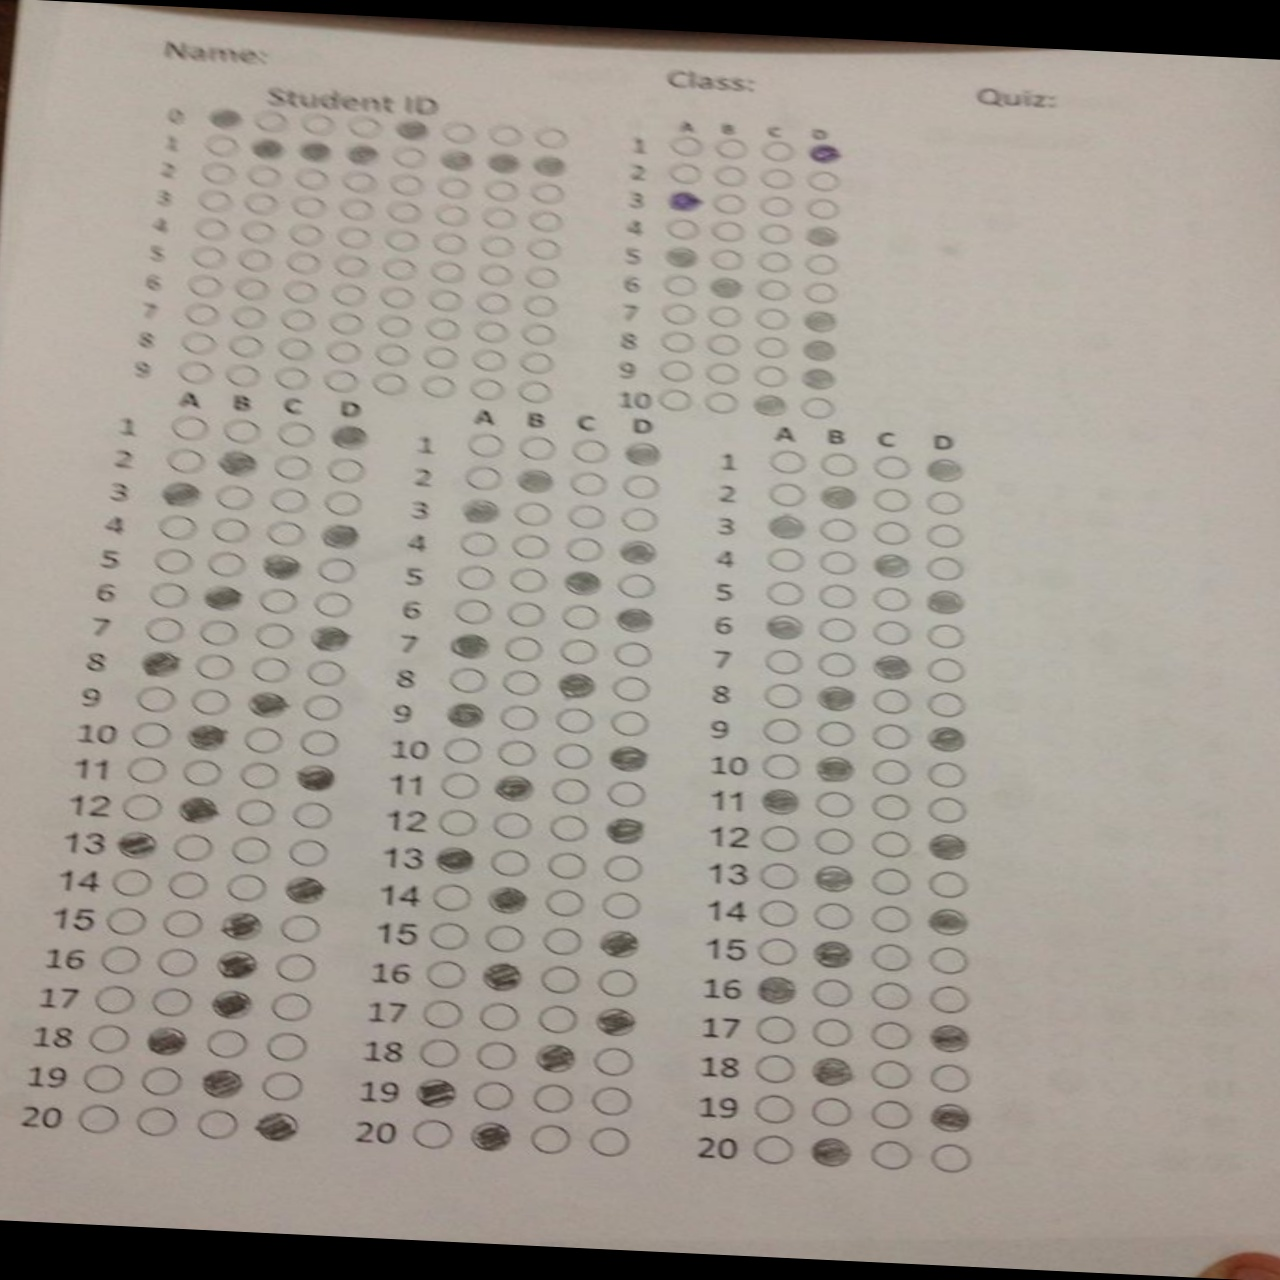not-c: (924, 1139, 978, 1175), (474, 1039, 520, 1074), (80, 1061, 128, 1095), (469, 1080, 518, 1111), (587, 1126, 633, 1160), (870, 1138, 915, 1172), (91, 983, 136, 1017), (136, 1105, 181, 1139), (870, 903, 914, 937), (151, 545, 198, 577), (482, 924, 529, 955), (924, 869, 971, 900), (867, 1099, 914, 1131), (154, 512, 202, 543), (749, 1055, 797, 1085), (324, 454, 368, 486), (212, 481, 257, 513), (749, 1090, 794, 1123), (273, 418, 319, 450), (268, 451, 314, 483), (268, 990, 314, 1022), (261, 1070, 307, 1102), (76, 1103, 122, 1135), (870, 980, 915, 1012), (156, 945, 198, 979), (205, 1026, 247, 1060), (161, 445, 207, 476), (302, 658, 349, 688), (753, 897, 799, 927), (196, 1108, 239, 1141), (416, 1036, 459, 1069), (314, 554, 359, 586), (256, 585, 300, 617), (118, 791, 163, 823), (755, 1132, 795, 1167), (557, 604, 602, 634), (544, 850, 590, 880), (928, 982, 971, 1015), (871, 1057, 913, 1090), (320, 488, 367, 517), (501, 633, 547, 662), (922, 554, 969, 584), (869, 869, 915, 898), (87, 1023, 130, 1055), (139, 1065, 183, 1097), (601, 891, 645, 922), (925, 689, 968, 721), (166, 411, 211, 442), (248, 654, 293, 685), (477, 1001, 522, 1032), (591, 1046, 635, 1076), (922, 489, 967, 519), (869, 617, 913, 647), (234, 796, 275, 829), (930, 1064, 971, 1097), (531, 1084, 577, 1114), (410, 1121, 456, 1150), (922, 621, 968, 651), (298, 728, 340, 760), (274, 952, 316, 983), (597, 966, 639, 998), (591, 1088, 633, 1119), (755, 934, 797, 966), (755, 1014, 797, 1046), (207, 515, 251, 545), (286, 837, 329, 867), (104, 906, 148, 937), (612, 674, 655, 704), (527, 1123, 571, 1153), (219, 416, 264, 445), (288, 799, 333, 829), (159, 908, 204, 938), (812, 721, 860, 748), (312, 590, 354, 620), (241, 726, 284, 756), (229, 835, 271, 865), (509, 565, 551, 595), (429, 920, 471, 951), (539, 966, 581, 996), (815, 615, 860, 644), (551, 704, 594, 734), (869, 831, 912, 860), (927, 946, 971, 975), (813, 978, 857, 1007), (418, 343, 465, 370), (812, 791, 859, 818), (101, 944, 141, 975), (549, 812, 588, 844), (423, 287, 468, 315), (760, 716, 804, 744), (870, 794, 914, 822), (619, 570, 660, 600), (425, 959, 467, 989), (384, 198, 427, 227), (193, 651, 236, 680), (190, 688, 232, 717), (128, 720, 170, 749), (165, 870, 207, 899), (278, 913, 320, 942), (871, 1022, 913, 1051), (297, 110, 342, 137), (924, 656, 969, 683), (821, 448, 858, 481), (928, 794, 967, 825), (758, 823, 797, 855), (810, 1096, 849, 1128), (267, 486, 311, 515), (253, 620, 297, 648), (602, 855, 646, 883), (869, 584, 912, 612), (150, 579, 190, 610), (151, 988, 191, 1019), (544, 926, 584, 956), (760, 750, 799, 781), (813, 828, 853, 858), (223, 360, 264, 389), (474, 260, 515, 290), (144, 614, 185, 644), (181, 757, 222, 787), (238, 762, 279, 791), (225, 873, 266, 903), (870, 942, 911, 972), (290, 165, 334, 192), (436, 772, 481, 799), (274, 334, 316, 362), (206, 549, 248, 577), (127, 755, 169, 783), (506, 601, 549, 629), (551, 741, 593, 769), (490, 851, 532, 879), (762, 681, 804, 709), (448, 666, 486, 696), (767, 579, 805, 610), (761, 651, 806, 676), (328, 281, 372, 308), (368, 342, 411, 369), (493, 740, 537, 767), (267, 1032, 307, 1061), (551, 777, 591, 806), (423, 1001, 463, 1030), (540, 1006, 580, 1035), (329, 309, 370, 338), (113, 869, 154, 897), (452, 598, 493, 626), (501, 669, 542, 697), (416, 373, 461, 399), (181, 331, 223, 358), (427, 259, 469, 286), (265, 519, 307, 546), (512, 501, 554, 527), (872, 687, 914, 714), (924, 760, 966, 787), (230, 302, 270, 331), (285, 220, 325, 248), (135, 686, 175, 714), (302, 693, 342, 721), (171, 833, 211, 862), (612, 641, 652, 669), (436, 808, 476, 836), (926, 522, 966, 550), (813, 901, 853, 930), (811, 1020, 851, 1048), (526, 207, 570, 233), (509, 533, 552, 559), (270, 365, 311, 392), (433, 202, 474, 229), (622, 474, 663, 501), (818, 583, 859, 610), (870, 760, 911, 787), (190, 241, 227, 271), (324, 367, 361, 396), (422, 316, 467, 341), (282, 277, 321, 305), (322, 338, 365, 363), (469, 346, 508, 374), (520, 293, 563, 319), (464, 433, 506, 458), (570, 436, 608, 464), (497, 706, 539, 731), (433, 884, 471, 912), (817, 652, 859, 678), (871, 724, 910, 753), (756, 863, 798, 888), (251, 108, 291, 135), (376, 314, 416, 341), (518, 349, 558, 376), (455, 564, 495, 591), (546, 888, 586, 915), (767, 482, 806, 509), (459, 527, 495, 558), (492, 811, 529, 840), (380, 257, 421, 282), (468, 377, 509, 403), (523, 264, 564, 290), (342, 168, 380, 196), (821, 517, 858, 545), (433, 173, 471, 200), (237, 245, 275, 272), (515, 379, 553, 406), (874, 520, 913, 547), (441, 120, 481, 145), (486, 122, 526, 148), (532, 124, 572, 150), (232, 275, 272, 301), (282, 250, 322, 275), (369, 372, 409, 397), (520, 321, 560, 347), (198, 619, 238, 645), (570, 471, 610, 497), (610, 712, 649, 737), (482, 205, 518, 233), (465, 464, 502, 492), (873, 486, 910, 515), (377, 285, 415, 312), (241, 190, 282, 215), (663, 134, 704, 158), (765, 549, 806, 573), (346, 114, 384, 139), (484, 178, 523, 204), (530, 181, 568, 206), (335, 225, 374, 251), (443, 738, 482, 764), (568, 503, 604, 531), (241, 163, 281, 188), (430, 231, 470, 256), (527, 236, 567, 260), (704, 332, 744, 356), (624, 508, 663, 532), (383, 229, 420, 256), (177, 359, 215, 384), (474, 290, 511, 315), (665, 161, 702, 186), (519, 434, 557, 459), (182, 302, 220, 327), (472, 319, 511, 343), (663, 217, 702, 241), (704, 392, 743, 416), (796, 396, 835, 421), (199, 159, 236, 185), (197, 189, 233, 215), (240, 218, 277, 244), (479, 234, 516, 260), (708, 246, 744, 272), (658, 387, 694, 413), (607, 782, 644, 808), (771, 448, 808, 474), (288, 195, 328, 218), (760, 139, 799, 163), (563, 538, 602, 561), (874, 457, 914, 481), (334, 256, 372, 280), (756, 250, 794, 274), (703, 361, 741, 386), (560, 640, 598, 665), (203, 134, 241, 157), (390, 172, 425, 198), (227, 335, 266, 359), (819, 550, 855, 576), (712, 163, 748, 188), (805, 251, 842, 275), (188, 275, 225, 299), (279, 308, 316, 332), (659, 331, 696, 354), (195, 216, 230, 240), (755, 279, 794, 301), (756, 307, 792, 331), (761, 195, 794, 220), (392, 145, 425, 170), (341, 198, 375, 223), (660, 359, 694, 383), (758, 223, 796, 245), (801, 281, 838, 304), (805, 169, 840, 192), (761, 166, 797, 189), (753, 365, 789, 387), (663, 302, 697, 326), (754, 336, 789, 359), (709, 304, 741, 328), (805, 197, 838, 220), (715, 137, 749, 159), (712, 220, 747, 241), (663, 275, 697, 297), (714, 193, 747, 215)
taken-c: (918, 1020, 976, 1061), (197, 985, 259, 1020), (597, 812, 652, 851), (304, 621, 356, 659), (922, 833, 975, 871), (111, 826, 161, 866), (279, 873, 333, 910), (806, 1131, 859, 1167), (130, 644, 186, 678), (248, 1107, 299, 1144), (809, 1055, 862, 1090), (198, 1065, 245, 1104), (617, 533, 663, 572), (409, 1077, 463, 1110), (486, 771, 538, 804), (601, 745, 651, 779), (558, 670, 602, 708), (259, 549, 306, 584), (469, 1119, 516, 1155), (920, 1101, 974, 1131), (751, 974, 799, 1008), (599, 926, 641, 965), (204, 583, 250, 618), (218, 908, 264, 944), (593, 1002, 639, 1037), (209, 946, 256, 980), (445, 629, 493, 662), (622, 438, 670, 471), (926, 723, 972, 757), (563, 568, 610, 601), (477, 961, 527, 992), (761, 612, 809, 644), (529, 1040, 573, 1074), (614, 604, 659, 638), (809, 937, 853, 971), (817, 681, 862, 715), (870, 550, 914, 584), (177, 794, 220, 828), (813, 481, 857, 515), (290, 763, 338, 794), (928, 907, 974, 939), (925, 590, 972, 620), (486, 883, 530, 915), (433, 845, 477, 877), (918, 456, 966, 485), (445, 699, 491, 729), (764, 509, 810, 539), (813, 866, 860, 896), (456, 495, 499, 526), (188, 722, 229, 755), (513, 467, 556, 498), (145, 1026, 185, 1058), (319, 519, 361, 550), (240, 687, 284, 716), (873, 652, 912, 685), (760, 787, 799, 817), (157, 479, 202, 506), (809, 755, 853, 782), (753, 390, 792, 420), (215, 449, 258, 475), (799, 365, 840, 392), (802, 308, 842, 335), (483, 149, 520, 177), (206, 105, 245, 132), (665, 245, 703, 270), (707, 274, 745, 299), (531, 152, 566, 179), (806, 222, 843, 247), (328, 423, 368, 447), (436, 147, 474, 171), (796, 339, 837, 361), (808, 138, 840, 165), (298, 139, 333, 164), (668, 188, 703, 212), (395, 114, 428, 139), (251, 137, 285, 161), (343, 145, 379, 166)
